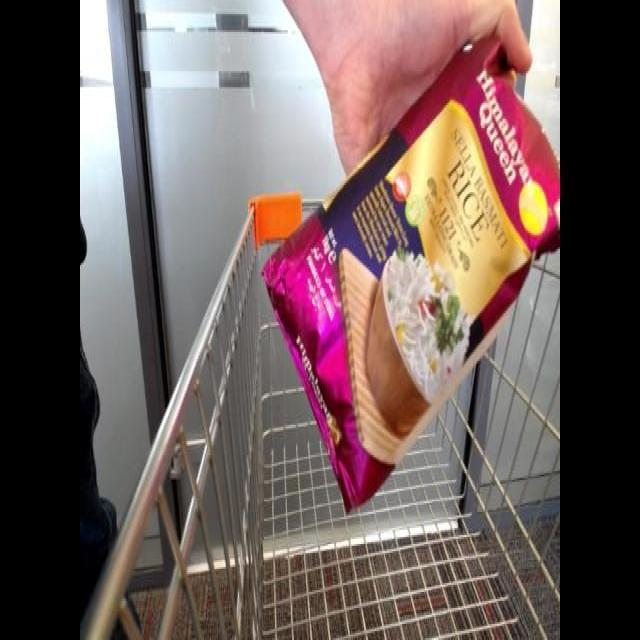Basmati Rice: (258, 13, 558, 515)
